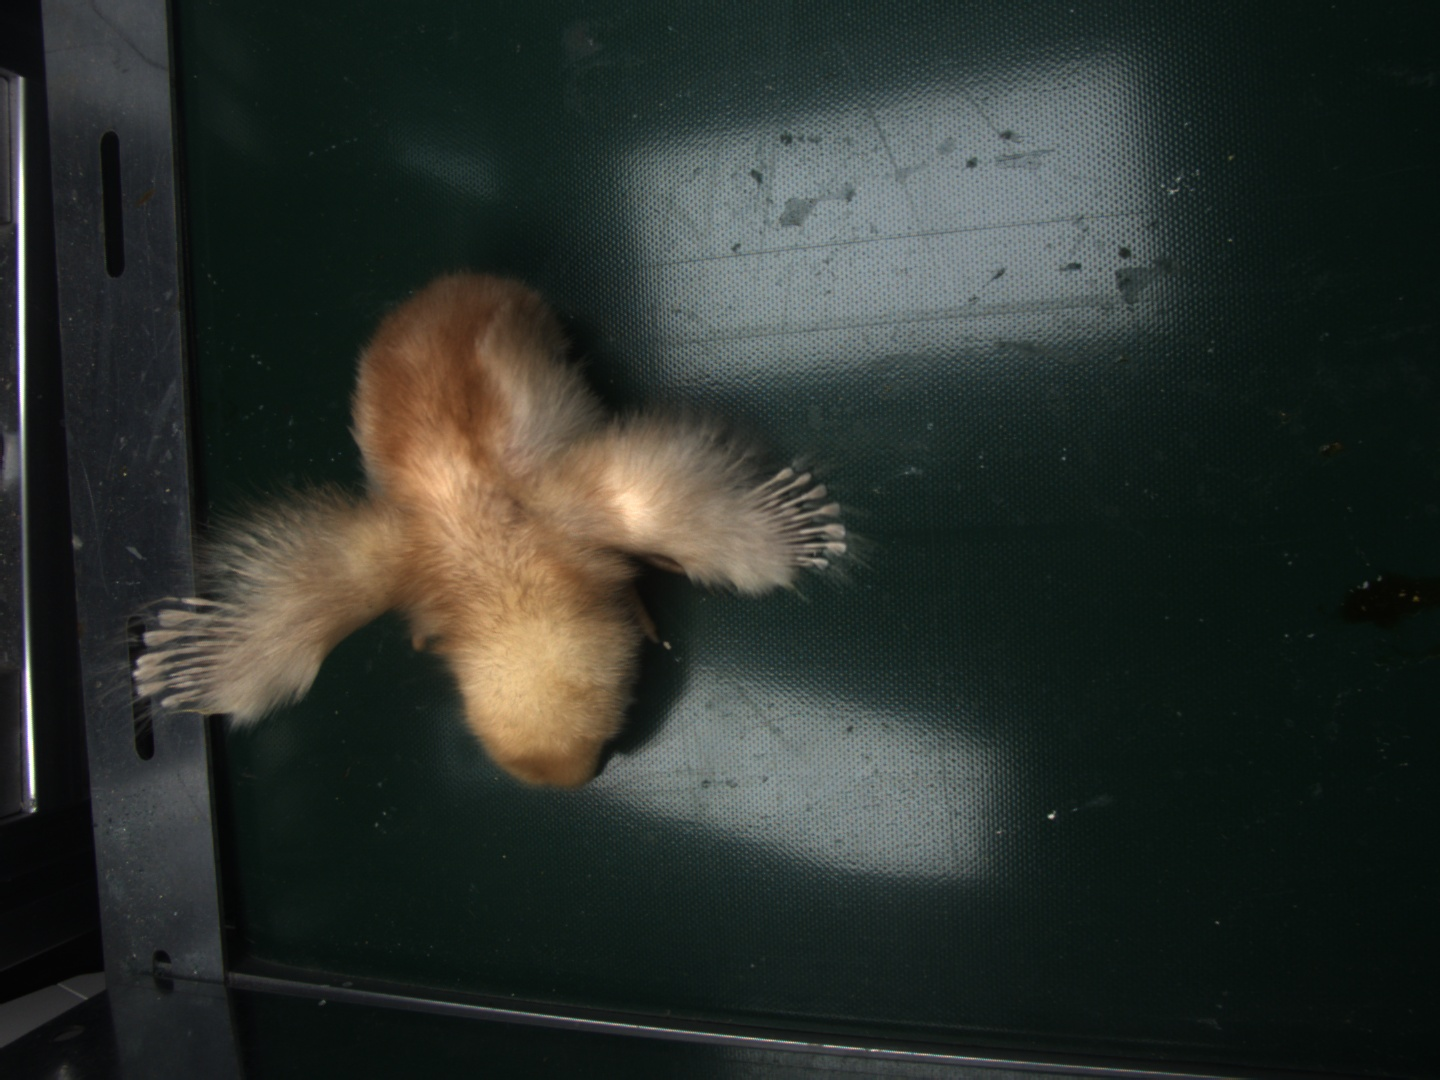female: (127, 596, 240, 712), (755, 469, 852, 567)
